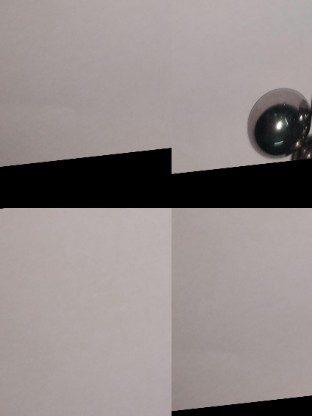ironball: (242, 81, 307, 156)
